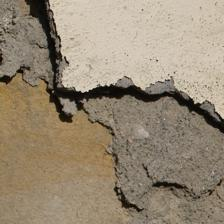Crack: (0, 130, 102, 192), (26, 88, 81, 191)
